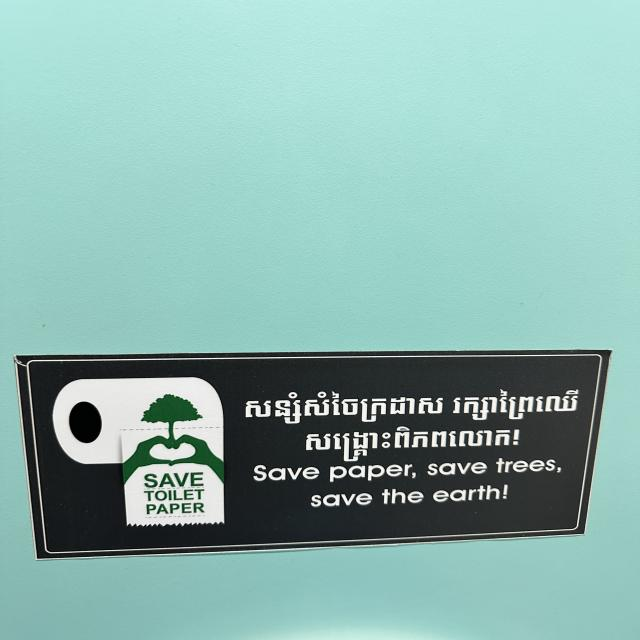1: (233, 382, 583, 428)
Yolov11_80vkh: (295, 425, 530, 460)
